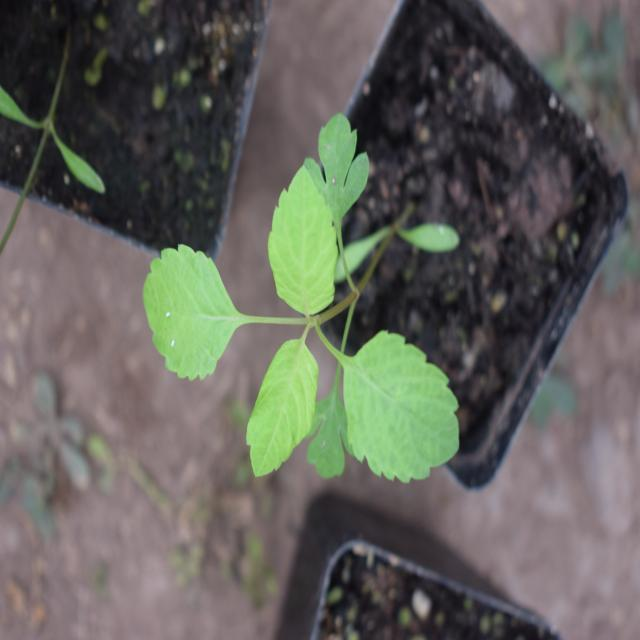Bidens pilosa: (146, 116, 455, 532)
